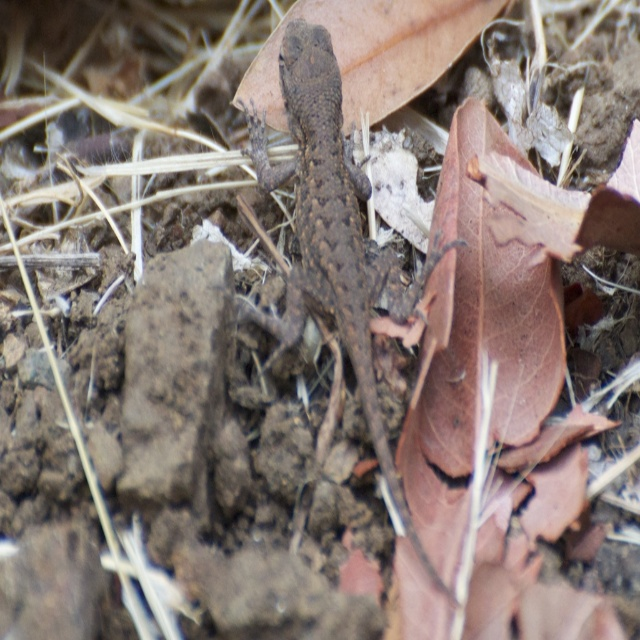Lizard: (209, 83, 451, 550)
